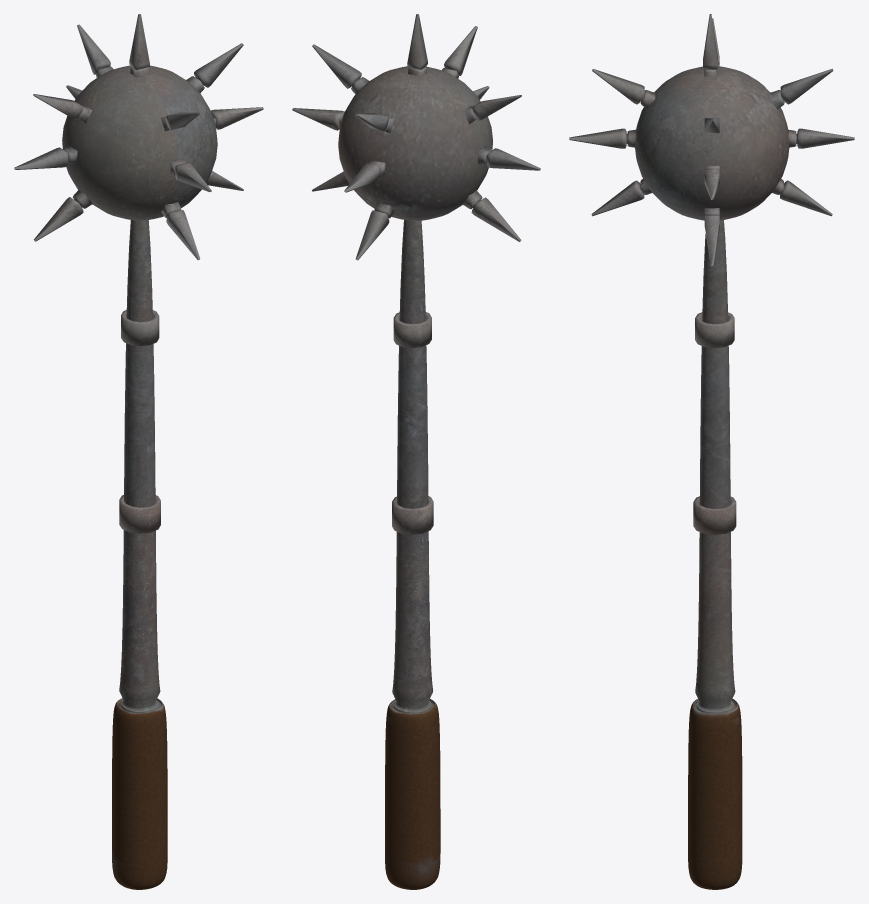
The model's file is Mace.fbx.
3 renders of one model, left to right at view 1: azimuth 30°, elevation 25°; view 2: azimuth 150°, elevation 25°; view 3: azimuth 270°, elevation 25°, orthographic.
Parts seen in each view (by area): view 1: JOINT; view 2: JOINT; view 3: JOINT.
Boxes of the visible parts, left/top/right/bottom form: JOINT: left=14, top=14, right=263, bottom=889; JOINT: left=292, top=14, right=540, bottom=889; JOINT: left=569, top=14, right=854, bottom=889.
Bounding box in the file's own units: 16.94 × 56.9 × 16.94.
